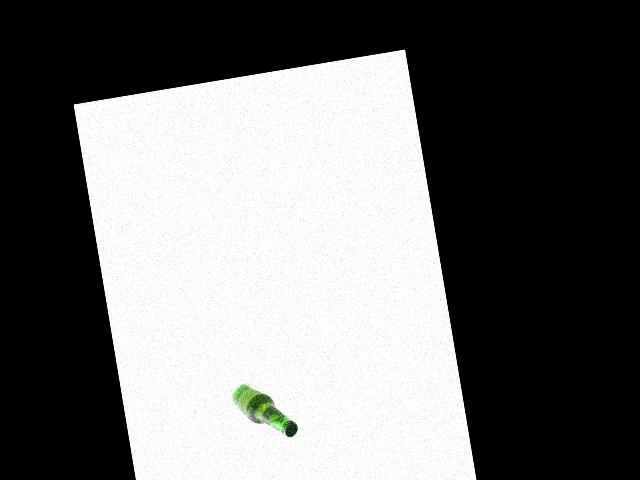beer: (230, 377, 299, 445)
